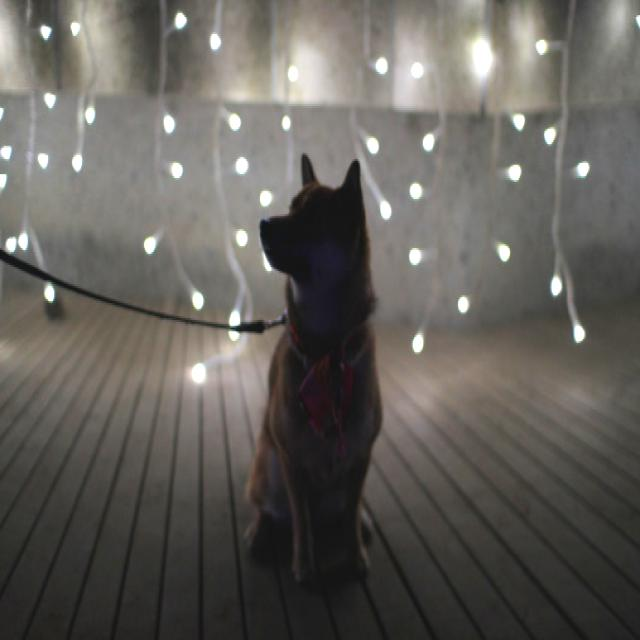Dog: (246, 156, 381, 574)
